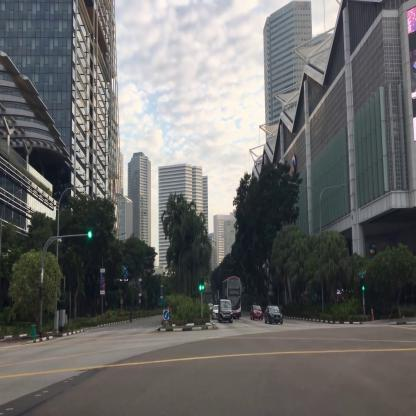green_traffic_light: (88, 232, 99, 238), (199, 278, 201, 289)
